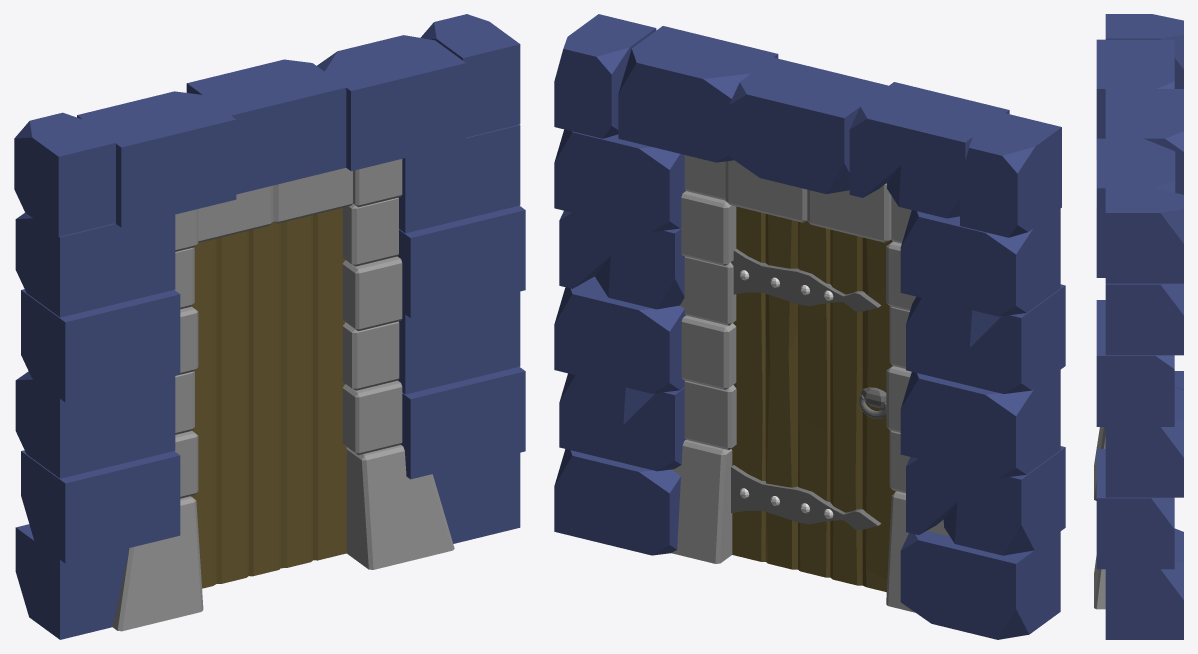
Rendered from door.fbx.
The picture shows the model from 3 angles, left to right: view 1: azimuth 30°, elevation 25°; view 2: azimuth 150°, elevation 25°; view 3: azimuth 270°, elevation 25°; orthographic projection. The views are drawn at different scales.
Visible parts, largest first — view 1: polySurface75, pCube17, pCube14; view 2: polySurface75, pCube17, pCube14; view 3: polySurface75, pCube14.
Boxes of the visible parts, left/top/right/bottom form: polySurface75: left=14, top=14, right=525, bottom=639; pCube17: left=191, top=208, right=346, bottom=588; pCube14: left=112, top=159, right=454, bottom=631; polySurface75: left=554, top=14, right=1065, bottom=639; pCube17: left=731, top=206, right=896, bottom=591; pCube14: left=671, top=155, right=949, bottom=612; polySurface75: left=1096, top=14, right=1183, bottom=639; pCube14: left=1094, top=427, right=1105, bottom=609.
Bounding box in the file's own units: 3.01 × 3.01 × 0.5749.
